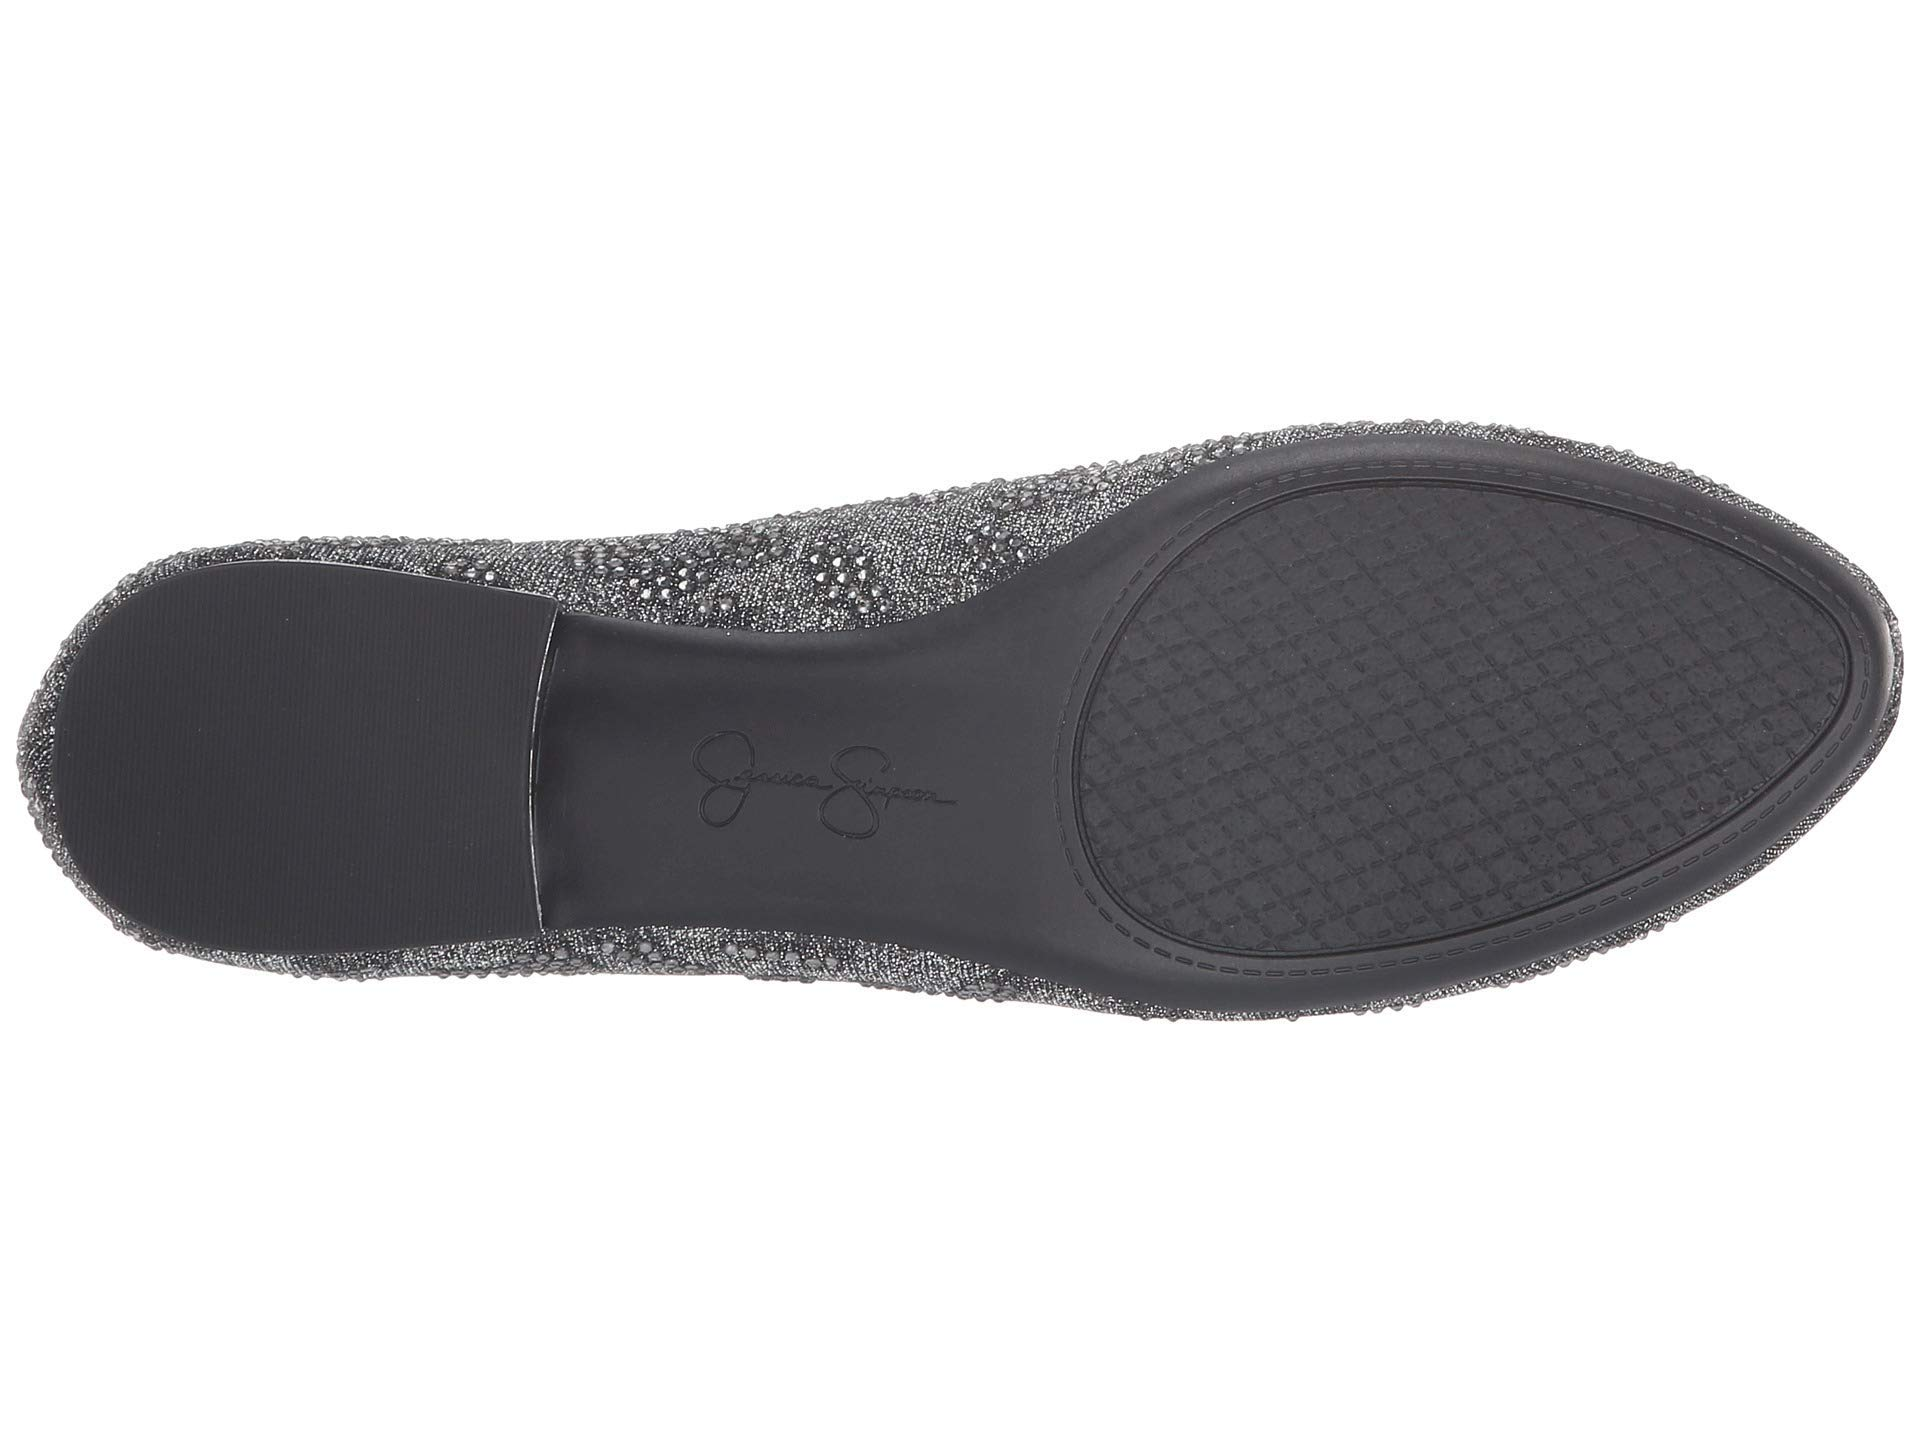line: (1209, 487, 1701, 902)
other: (166, 663, 393, 917)
quad: (1209, 487, 1701, 902), (1255, 576, 1547, 870), (1593, 582, 1776, 793)
text: (614, 687, 981, 868)
